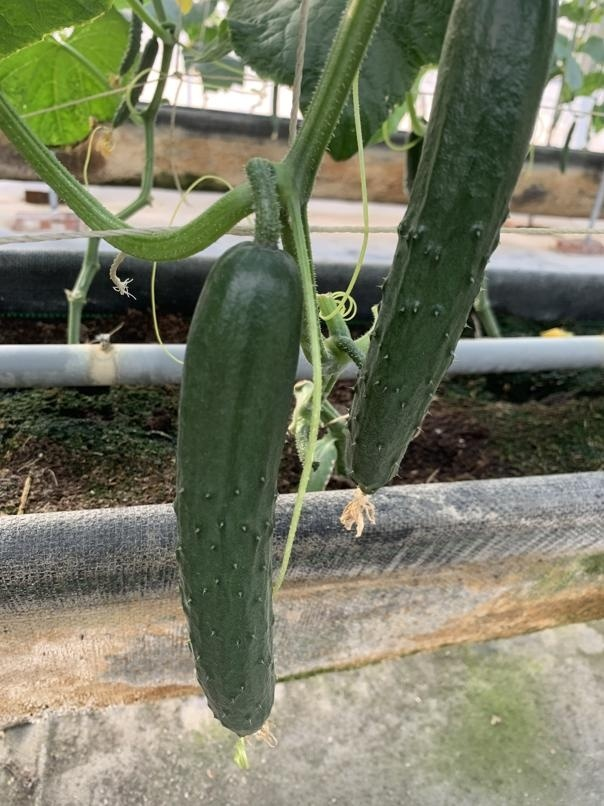mature: (340, 1, 560, 502), (167, 235, 303, 743)
